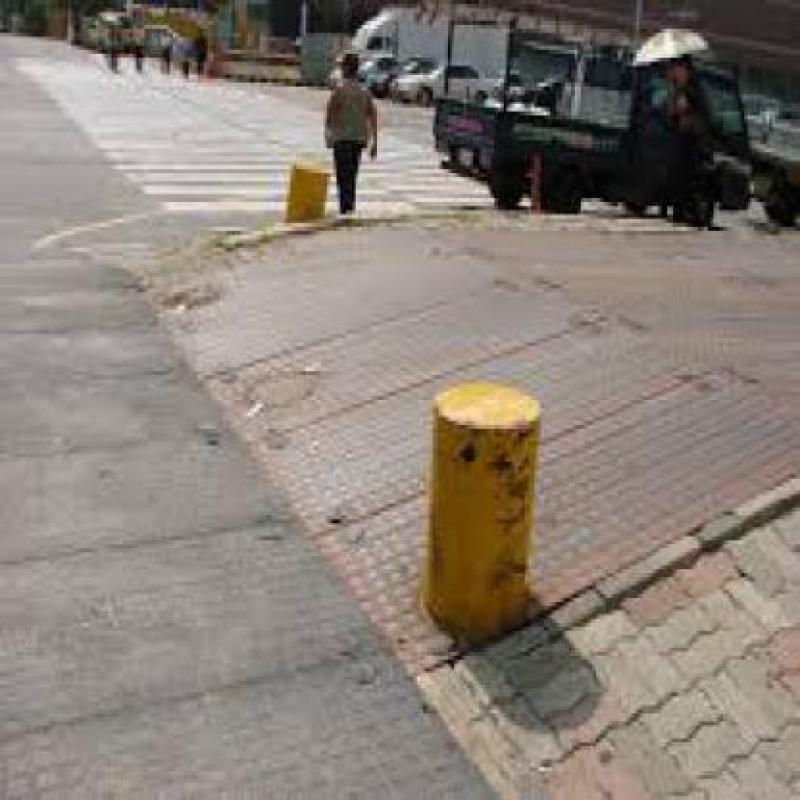bolard: (431, 400, 548, 598), (264, 169, 338, 247)
